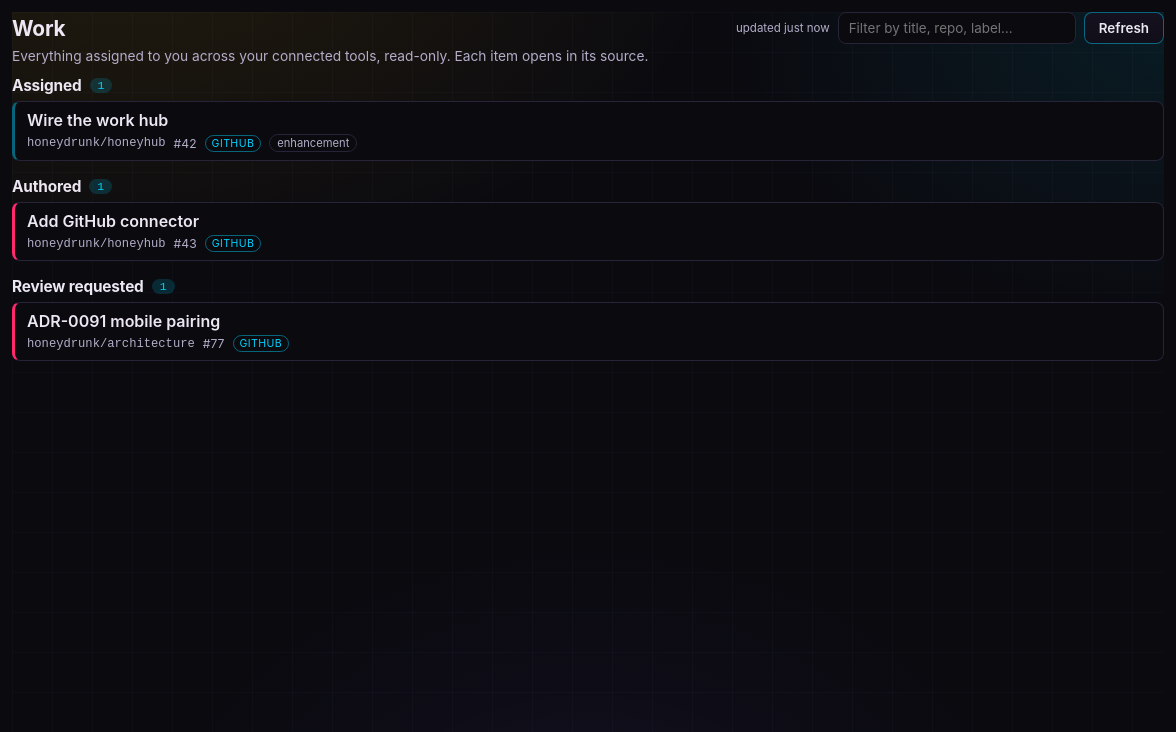
Test case: WorkView › with GitHub enabled, shows items split by category and filters them
Expected: the link "Wire the work hub" is shown, [27,110,168,130]
Expected: the element "Assigned" is shown, [12,76,1164,161]
// Filtering narrows to a matching item.
In the search field named "Filter work items": x=957, y=28 [838,12,1076,44], type "ADR-0091"
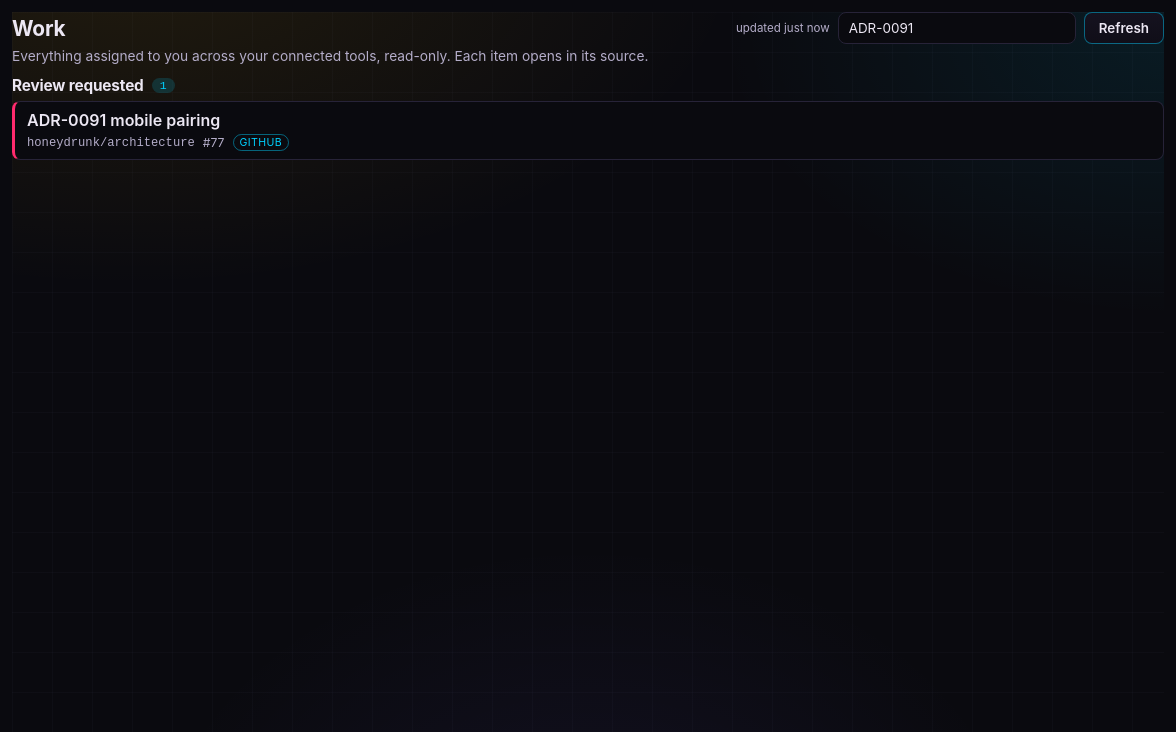
Expected: the link "ADR-0091 mobile pairing" is shown, [27,110,220,130]
Result: the link "Wire the work hub" is gone
